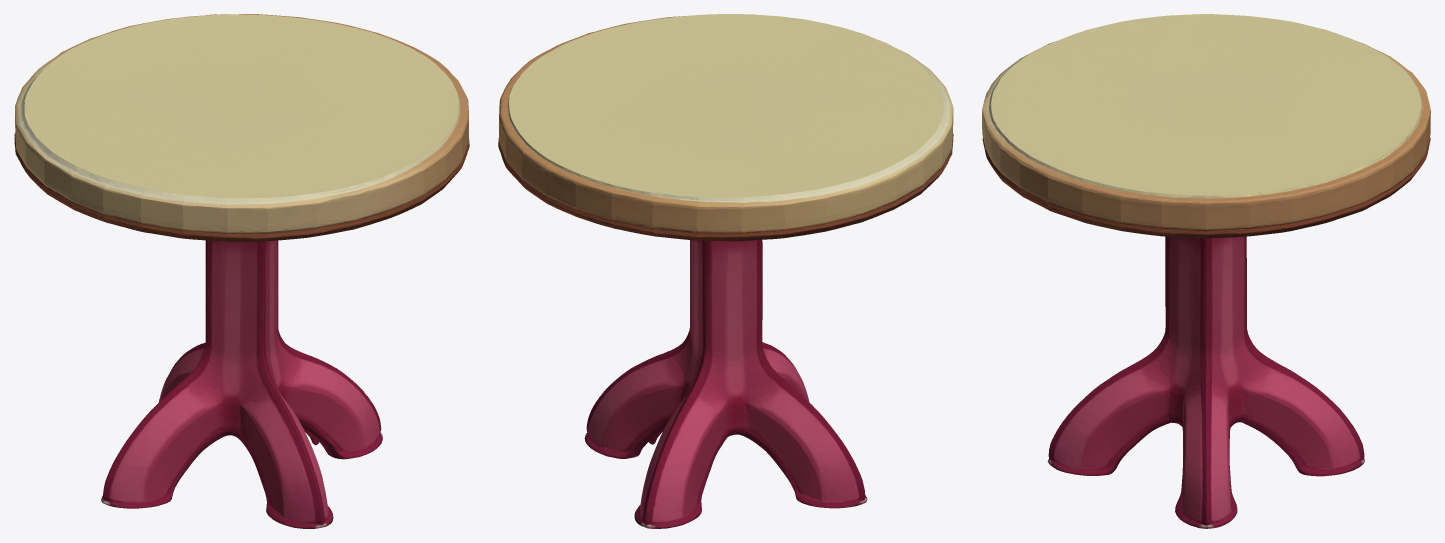
3 views of the same model, side by side, from view 1: azimuth 30°, elevation 25°; view 2: azimuth 150°, elevation 25°; view 3: azimuth 270°, elevation 25° (orthographic).
Visible parts, largest first — view 1: world; view 2: world; view 3: world.
Part boxes in pixels (x1,y1,x2,y2): world: [14, 14, 469, 528]; world: [498, 14, 953, 528]; world: [982, 14, 1430, 528].
Size of the model in its own units: 1 by 0.8822 by 1.
1 material, 1 textured.
